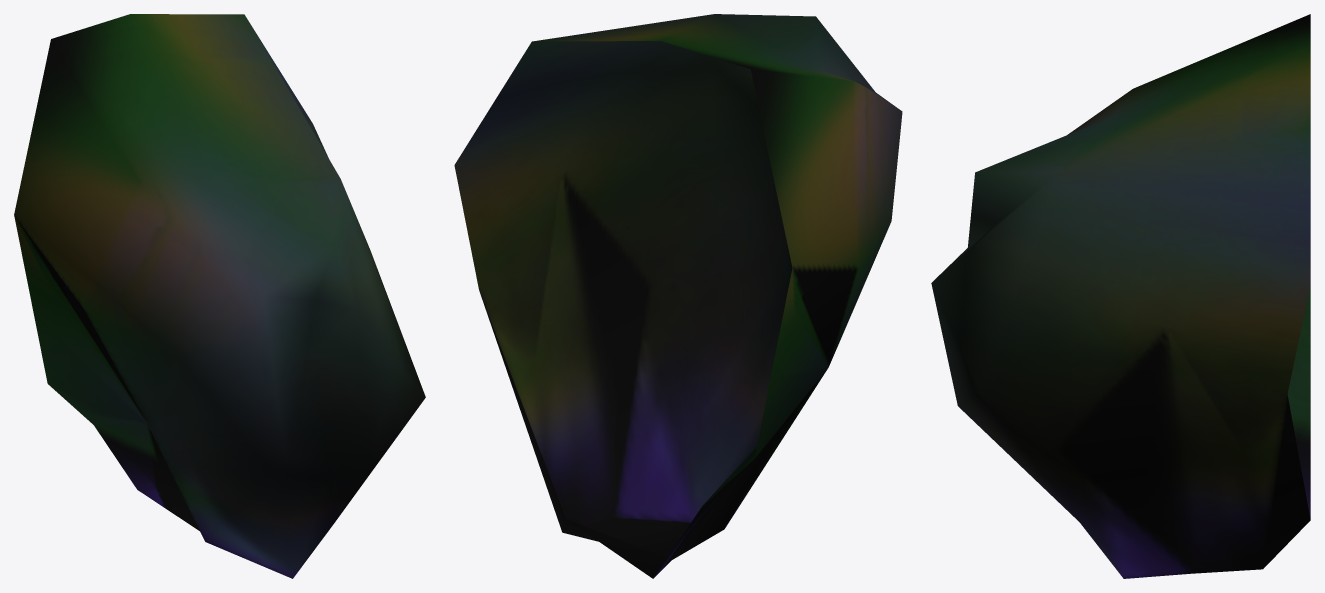
Rendered from rock6.fbx.
3 views of the same model, side by side, from view 1: azimuth 30°, elevation 25°; view 2: azimuth 150°, elevation 25°; view 3: azimuth 270°, elevation 25° (orthographic). The views are drawn at different scales.
Visible parts, largest first — view 1: Sphere.008; view 2: Sphere.008; view 3: Sphere.008.
Part boxes in pixels (left/top/right/bottom): Sphere.008: left=14, top=14, right=425, bottom=578; Sphere.008: left=454, top=14, right=902, bottom=578; Sphere.008: left=931, top=14, right=1310, bottom=578.
Size of the model in its own units: 1350 by 2207 by 1516.
